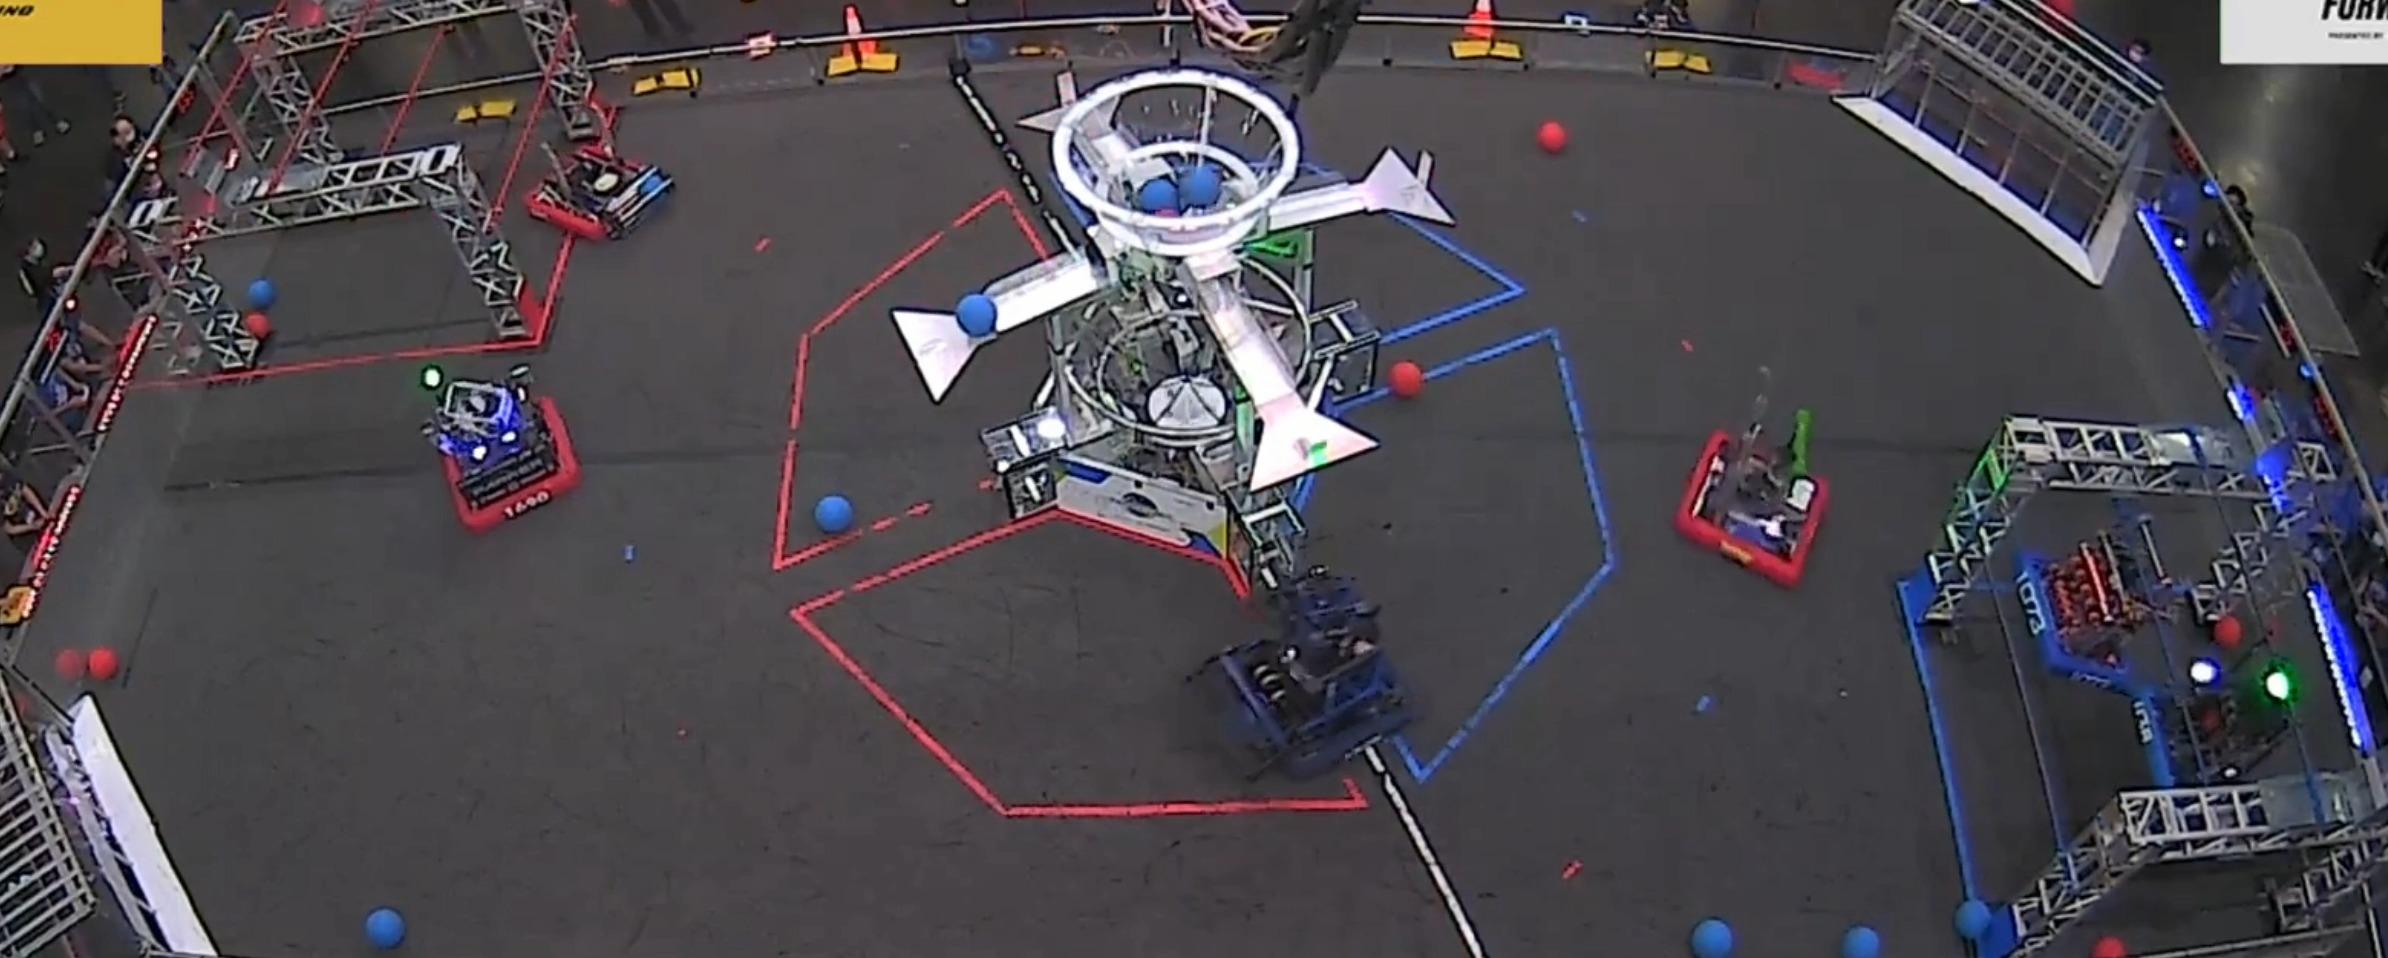Robots: (1202, 564, 1412, 778), (2012, 503, 2205, 685), (1680, 379, 1829, 586), (426, 362, 583, 530), (2147, 627, 2321, 777), (528, 136, 675, 242)
